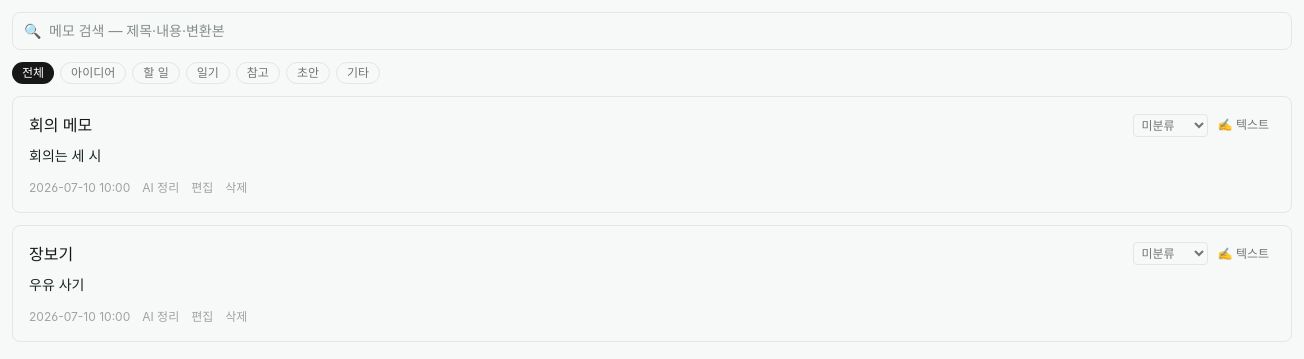
SearchableMemoList › 결과 없음 상태를 보여준다
Type "없는말" into the search field labelled "메모 검색" at x=652, y=31, box [12,12,1292,50]
Wait 300 ms
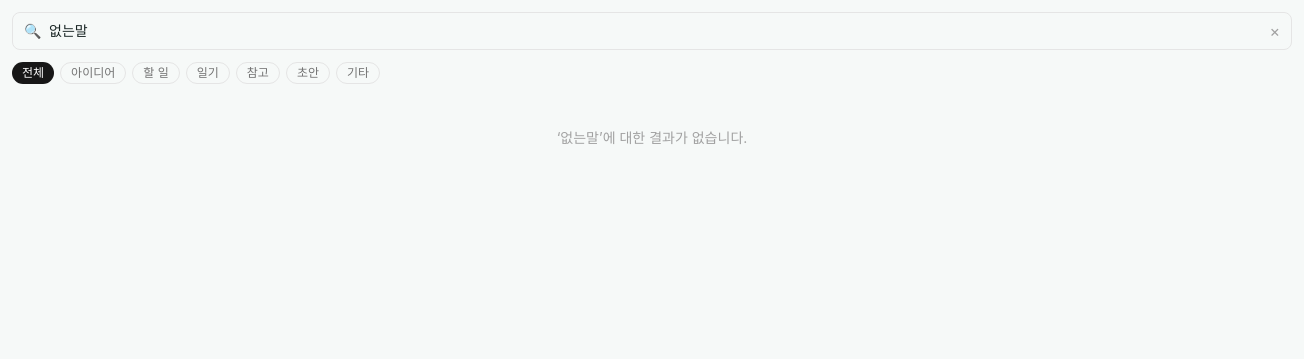
Now the text "‘없는말’에 대한 결과가 없습니다." is shown, box [557,129,747,146]
